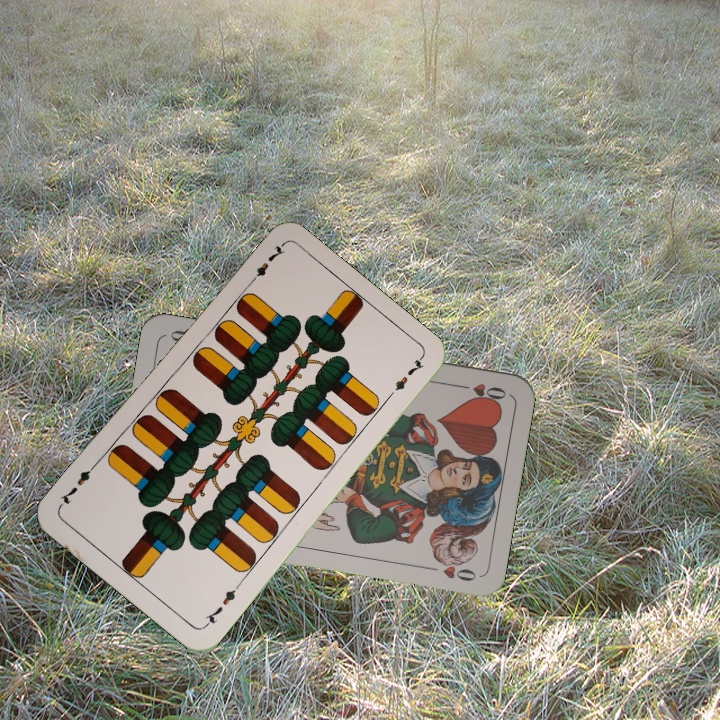E7: (242, 241, 287, 290), (200, 580, 242, 630)
HO: (451, 379, 509, 404)
